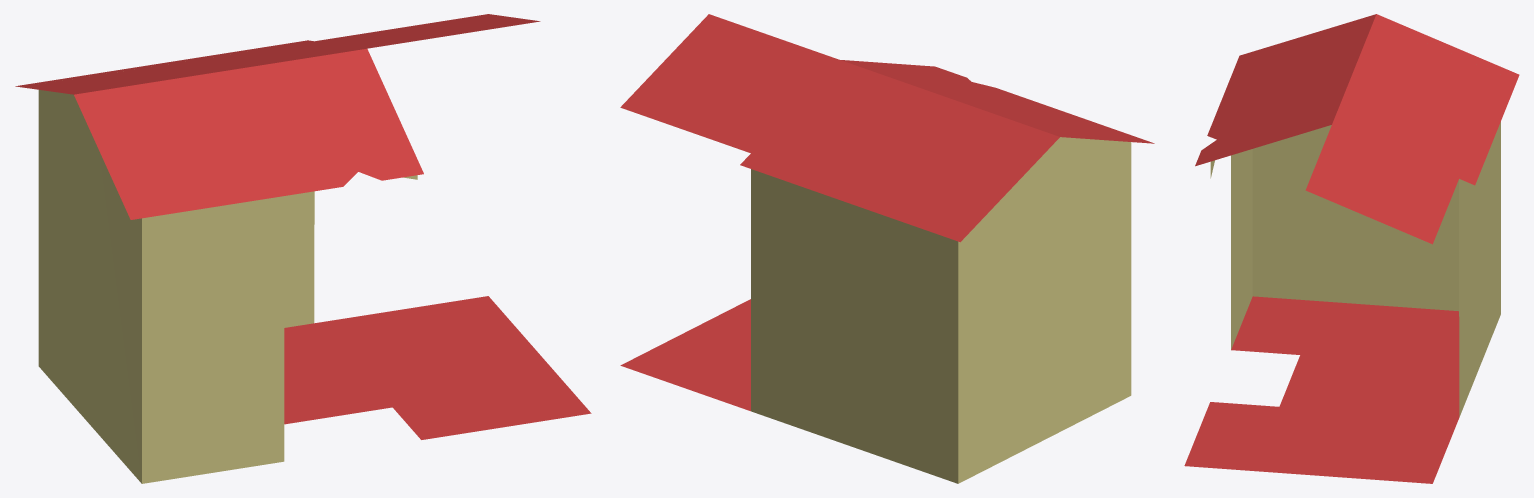
3 renders of one model, left to right at view 1: azimuth 30°, elevation 25°; view 2: azimuth 150°, elevation 25°; view 3: azimuth 270°, elevation 25°, orthographic. The views are drawn at different scales.
Bounding box in the file's own units: 14.33 × 10.39 × 9.72.
